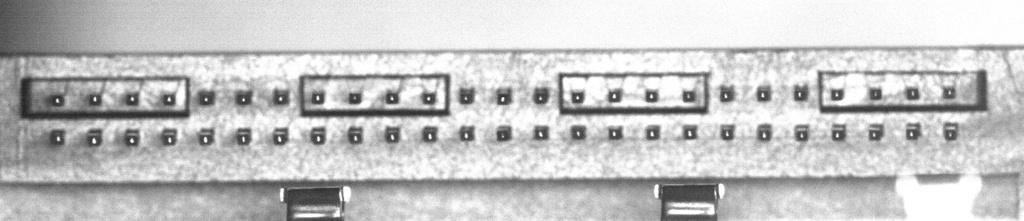pin_ok: (867, 123, 884, 141), (533, 86, 550, 104), (86, 128, 103, 146), (943, 122, 959, 141), (49, 128, 66, 145), (496, 87, 513, 104), (197, 128, 214, 145), (905, 122, 921, 140), (161, 128, 177, 146), (197, 89, 215, 105), (794, 124, 810, 141), (310, 127, 326, 144), (458, 87, 475, 103), (347, 126, 363, 143), (793, 84, 809, 101), (756, 124, 772, 141), (124, 129, 140, 146), (236, 89, 253, 105), (273, 88, 289, 105), (459, 125, 475, 141), (422, 126, 438, 142), (272, 128, 288, 144), (496, 125, 512, 141), (719, 85, 735, 101), (236, 128, 251, 145), (571, 124, 586, 140), (720, 124, 735, 140), (533, 125, 549, 140), (385, 126, 400, 142), (756, 85, 771, 101), (831, 125, 846, 141), (608, 125, 623, 140), (645, 125, 660, 140), (570, 89, 585, 104), (385, 90, 400, 104), (905, 86, 920, 100), (607, 88, 622, 102), (161, 92, 176, 106), (683, 125, 697, 139), (942, 85, 956, 99), (682, 89, 696, 103), (422, 90, 436, 104), (869, 86, 883, 100), (644, 89, 659, 102), (310, 91, 325, 104), (829, 88, 844, 101), (348, 91, 362, 104), (125, 92, 139, 105), (51, 94, 65, 107), (88, 93, 102, 105)
